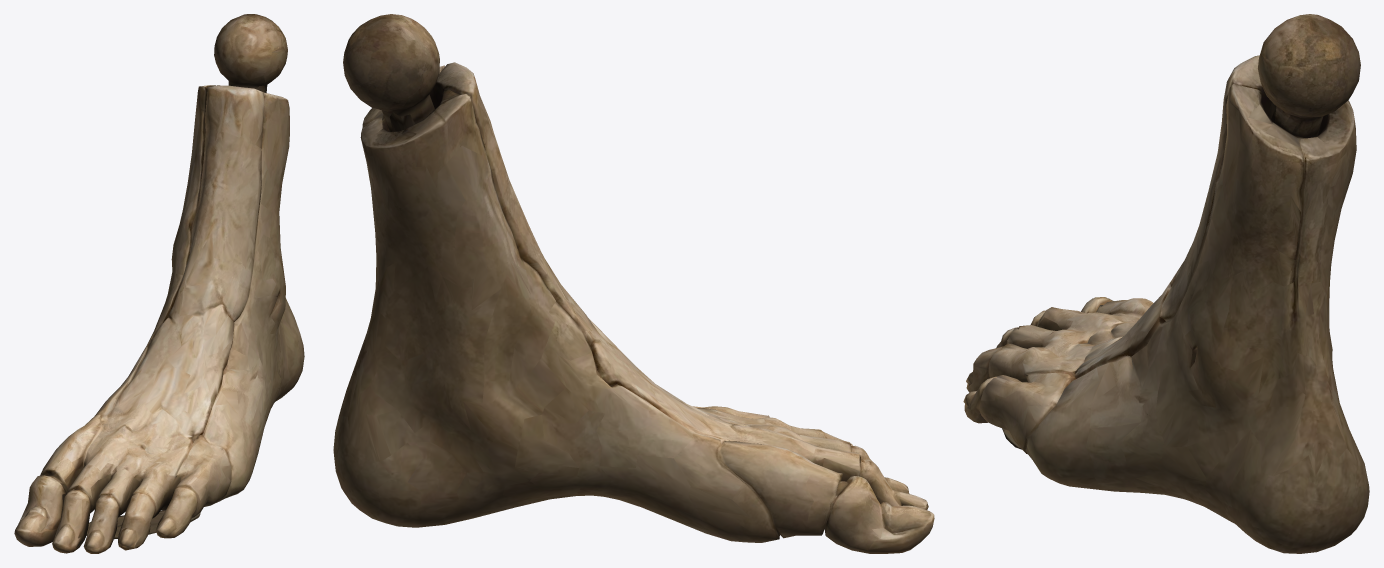
File: foot.fbx
The picture shows the model from 3 angles, left to right: view 1: azimuth 30°, elevation 25°; view 2: azimuth 150°, elevation 25°; view 3: azimuth 270°, elevation 25°; orthographic projection. The views are drawn at different scales.
Parts seen in each view (by area): view 1: Part; view 2: Part; view 3: Part.
Part boxes in pixels (box(x1,y1,x2,y2)): Part: box(14, 14, 304, 553); Part: box(333, 14, 934, 553); Part: box(963, 14, 1369, 553).
Bounding box in the file's own units: 0.1466 × 0.15 × 0.1013.
